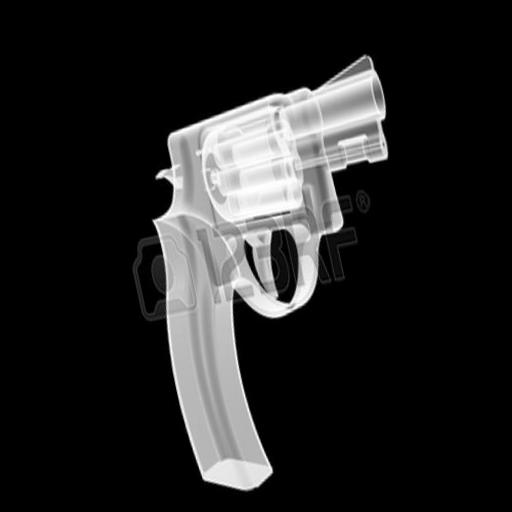Handgun: (111, 45, 461, 498)
